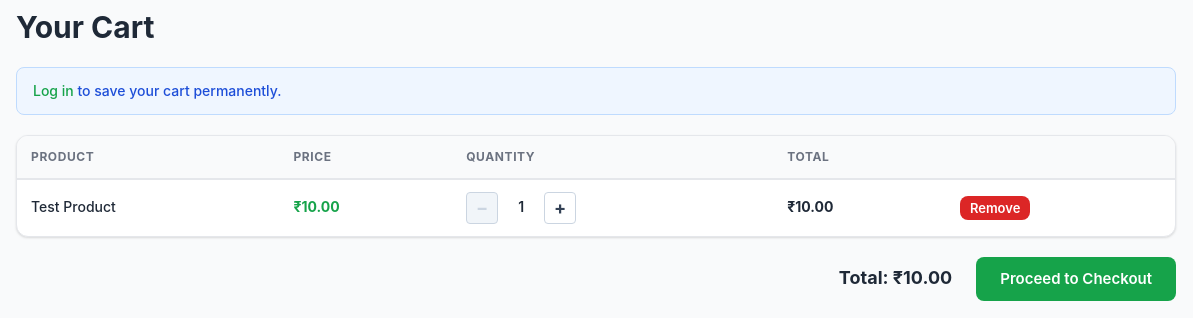
Scenario: CartPage › removes item from cart
Check: the text "Test Product" is shown, box top-left (17, 179), bottom-right (280, 236)
Click the button "Remove": (995, 208) top-left (960, 196), bottom-right (1030, 220)
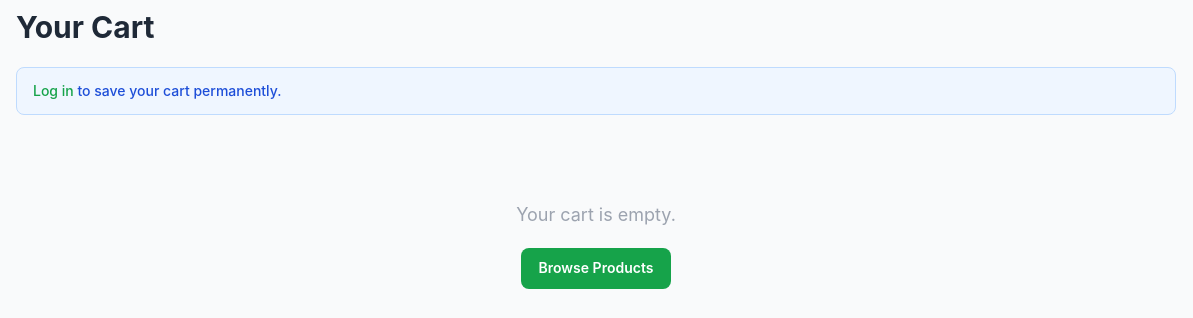
Check: the text "Test Product" is gone
Check: the text "Your cart is empty." is shown, box top-left (516, 204), bottom-right (676, 226)
